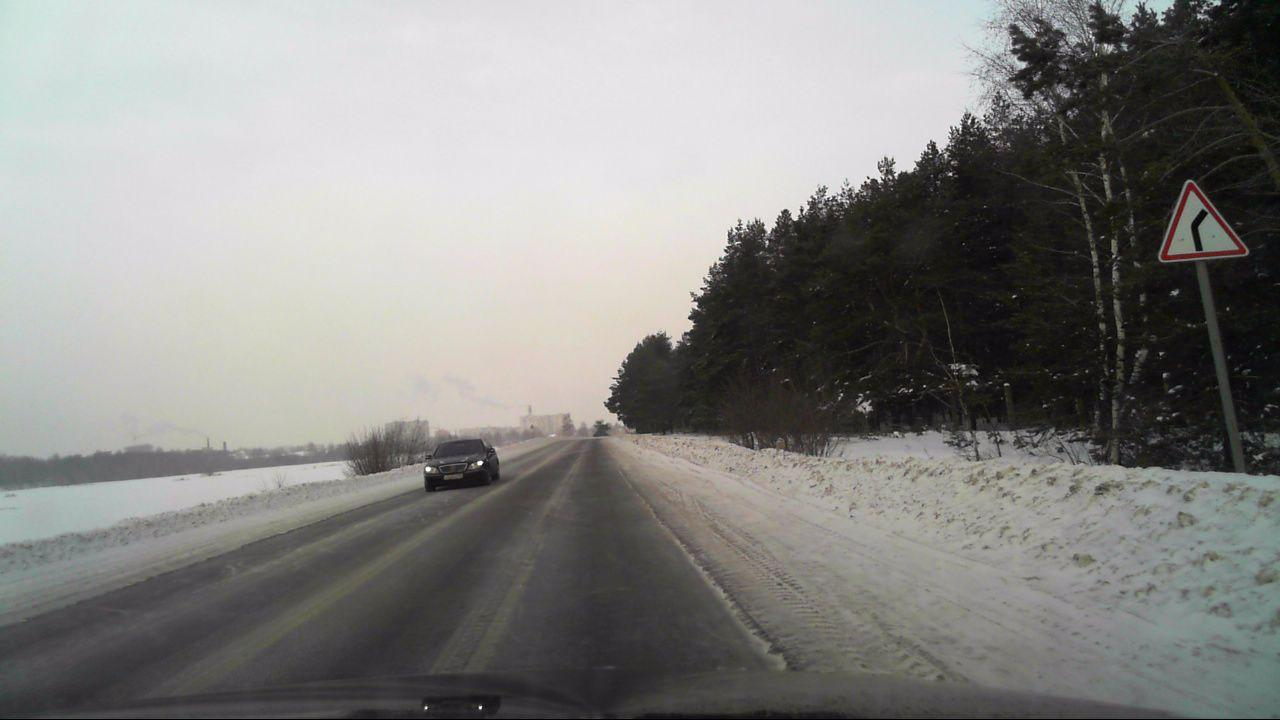1_11_1: (1159, 176, 1248, 263)
